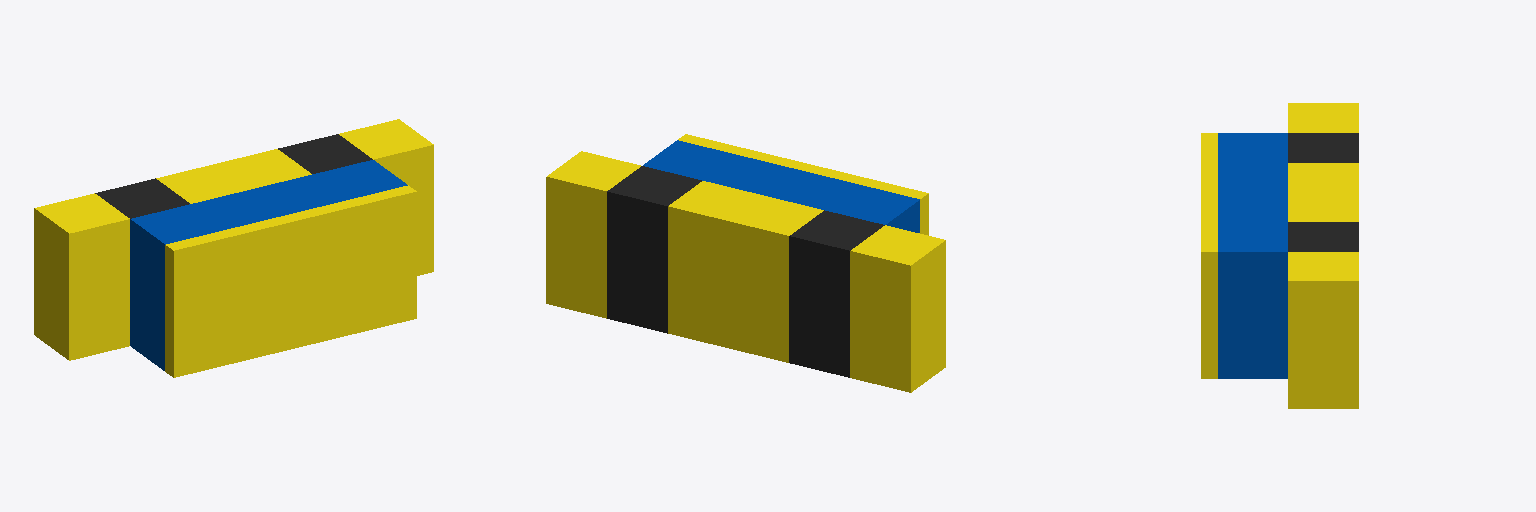
File: bokaAvto.obj
3 renders of one model, left to right at view 1: azimuth 30°, elevation 25°; view 2: azimuth 150°, elevation 25°; view 3: azimuth 270°, elevation 25°, orthographic.
Visible parts, largest first — view 1: Object.17, Object.18, Object.26, Object.28, Object.22, Object.21, Object.25, Object.14, Object.19, Object.23, Object.24, Object.27 (+9 smaller); view 2: Object.17, Object.18, Object.2, Object.19, Object.10, Object.1, Object.9, Object.3, Object.4, Object.12, Object.20, Object.11 (+5 smaller); view 3: Object.19, Object.5, Object.20, Object.7, Object.1, Object.2, Object.10, Object.17, Object.6, Object.14, Object.9, Object.13 (+2 smaller).
Part boxes in pixels (x1,y1,x2,y2): Object.17: (34,193,129,296); Object.18: (34,272,129,360); Object.26: (165,230,234,313); Object.28: (165,300,234,377); Object.22: (288,200,355,284); Object.21: (348,185,416,269); Object.25: (227,215,294,298); Object.14: (130,204,225,307); Object.19: (339,119,433,211); Object.23: (356,255,416,333); Object.24: (295,270,355,347); Object.27: (235,285,294,362); Object.17: (850,225,945,328); Object.18: (850,304,945,392); Object.2: (668,181,763,284); Object.19: (546,151,640,254); Object.10: (789,210,884,313); Object.1: (607,166,701,269); Object.9: (729,196,823,298); Object.3: (607,255,667,333); Object.4: (668,270,728,347); Object.12: (789,300,849,377); Object.20: (546,240,606,318); Object.11: (729,285,788,362); Object.19: (1288,252,1358,344); Object.5: (1218,222,1287,314); Object.20: (1288,345,1358,408); Object.7: (1218,315,1287,378); Object.1: (1288,222,1358,251); Object.2: (1288,192,1358,221); Object.10: (1288,133,1358,162); Object.17: (1288,103,1358,132); Object.6: (1218,192,1287,221); Object.14: (1218,133,1287,162); Object.9: (1288,163,1358,191); Object.13: (1218,163,1287,191).
Bounding box in the file's own units: 240 × 80 × 89.67.